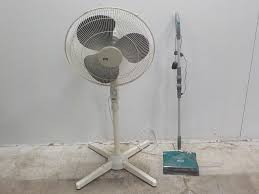standing_fan: (61, 5, 158, 189)
